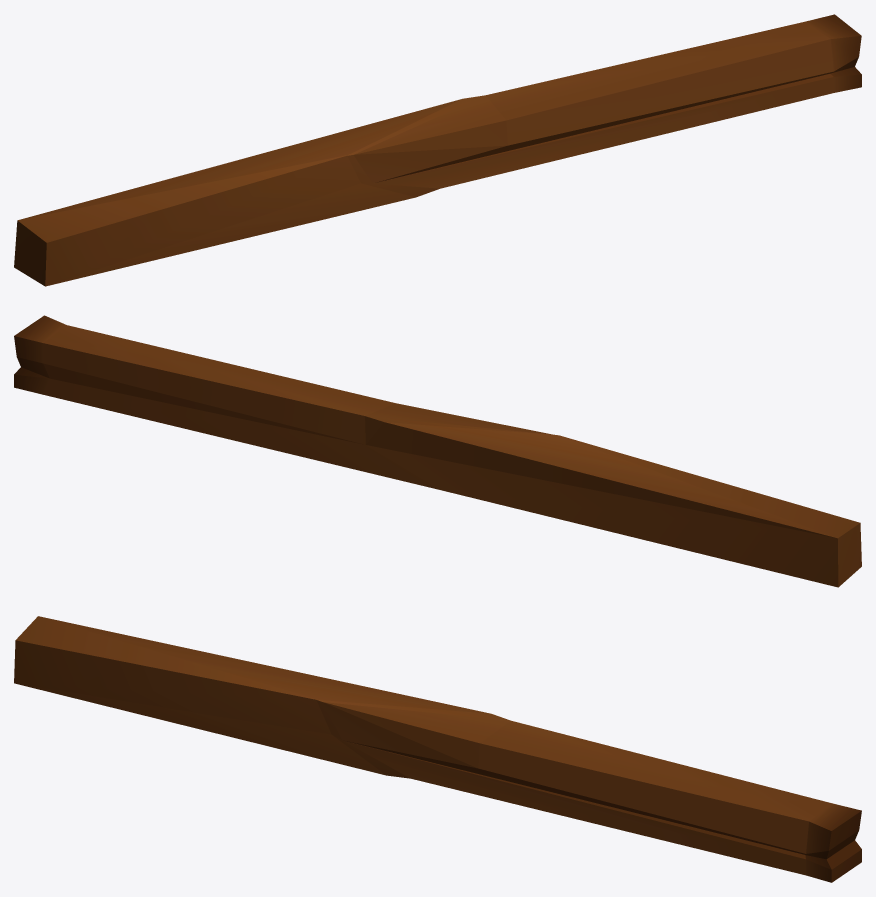
Rendered from Wood_Beam_B.fbx.
The picture shows the model from 3 angles, top to bottom: view 1: azimuth 30°, elevation 25°; view 2: azimuth 150°, elevation 25°; view 3: azimuth 330°, elevation 25°; orthographic projection.
Parts seen in each view (by area): view 1: Wood_Beam_B; view 2: Wood_Beam_B; view 3: Wood_Beam_B.
Part boxes in pixels (bbox=[...]): Wood_Beam_B: bbox=[14, 14, 861, 286]; Wood_Beam_B: bbox=[14, 315, 861, 587]; Wood_Beam_B: bbox=[14, 616, 861, 882].
Bounding box in the file's own units: 496 × 31.15 × 34.19.
1 material, 1 textured.
